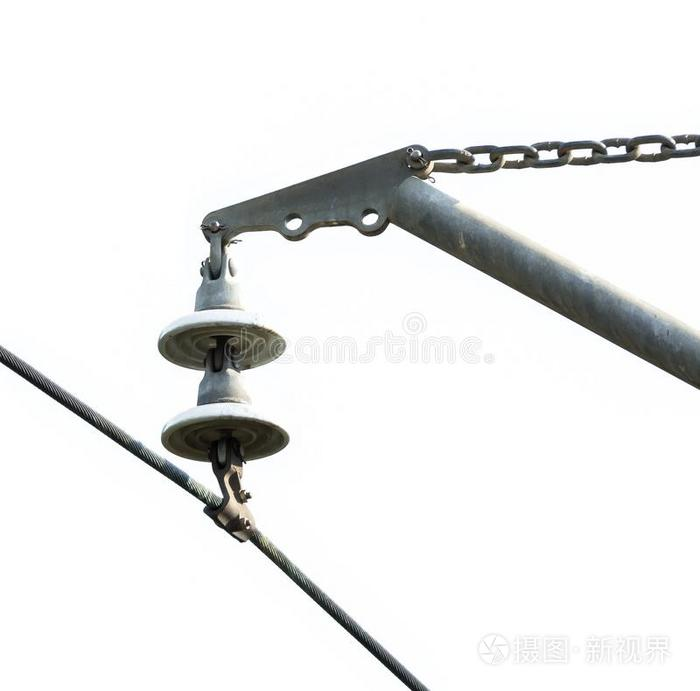insulator: (152, 308, 291, 460)
